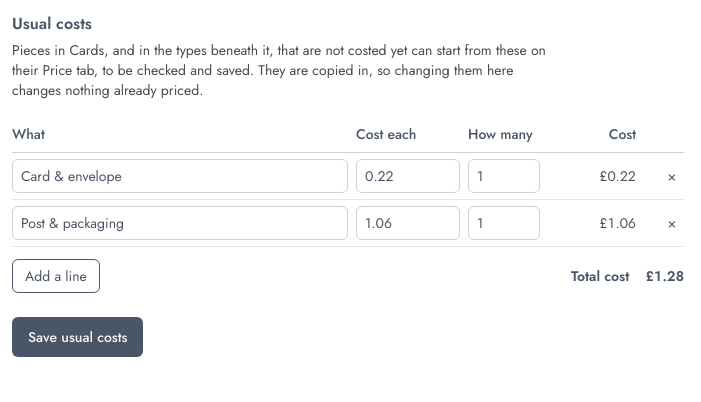
Test: CategoryCostsForm › shows what was wrong with a line
The width and height of the screenshot is (701, 402).
Step 1. Click the button "Save usual costs" → (78, 337), box [12, 317, 144, 357]
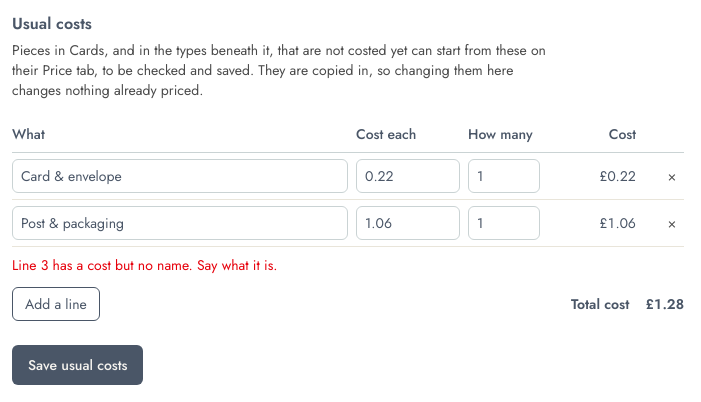
Expected: the text "Line 3 has a cost but no name. Say what it is." is shown, [12, 255, 278, 275]
